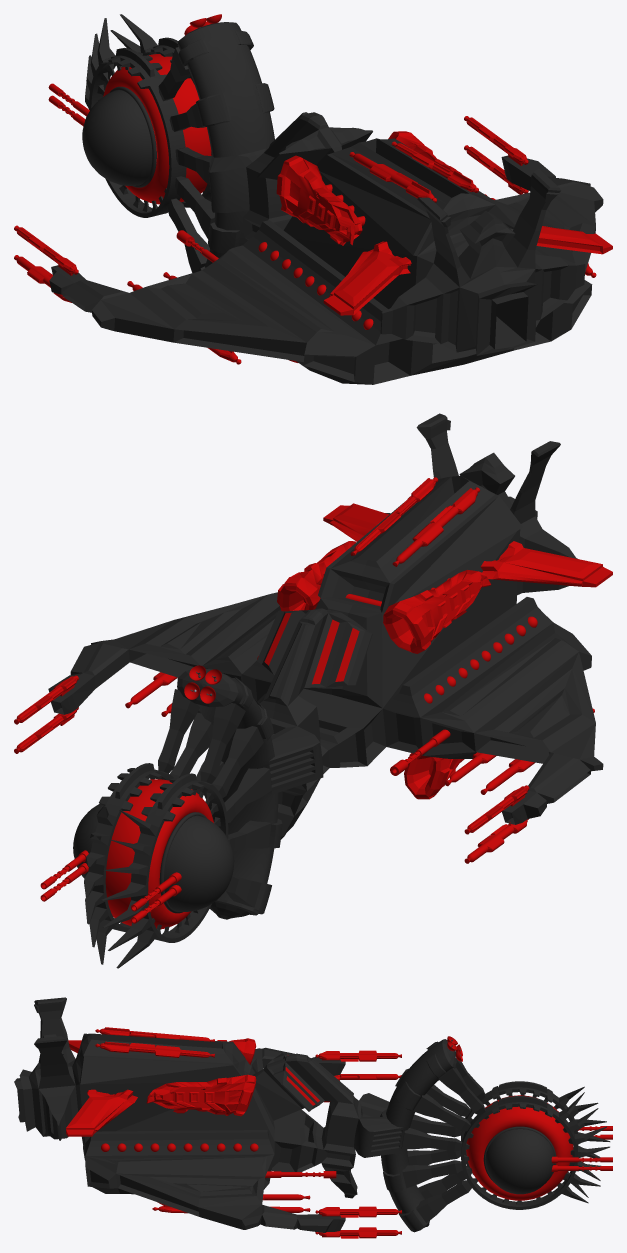
Rendered from VaisseauCac.fbx.
The picture shows the model from 3 angles, top to bottom: view 1: azimuth 30°, elevation 25°; view 2: azimuth 150°, elevation 25°; view 3: azimuth 270°, elevation 25°; orthographic projection. The views are drawn at different scales.
Visible parts, largest first — view 1: Tube019; view 2: Tube019; view 3: Tube019.
Part boxes in pixels (x1,y1,x2,y2): Tube019: (14, 14, 612, 384); Tube019: (14, 413, 612, 968); Tube019: (14, 997, 612, 1238).
Bounding box in the file's own units: 3.54 × 5.11 × 1.96.
